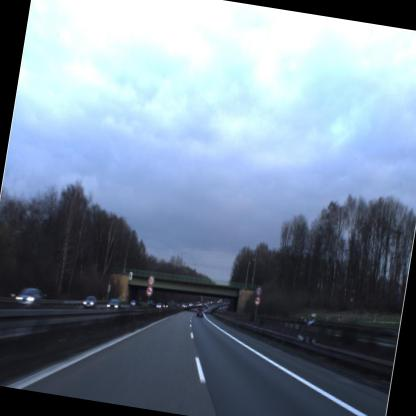prohibitory: (145, 271, 156, 289), (251, 296, 263, 312), (253, 284, 264, 299), (144, 286, 154, 298)
